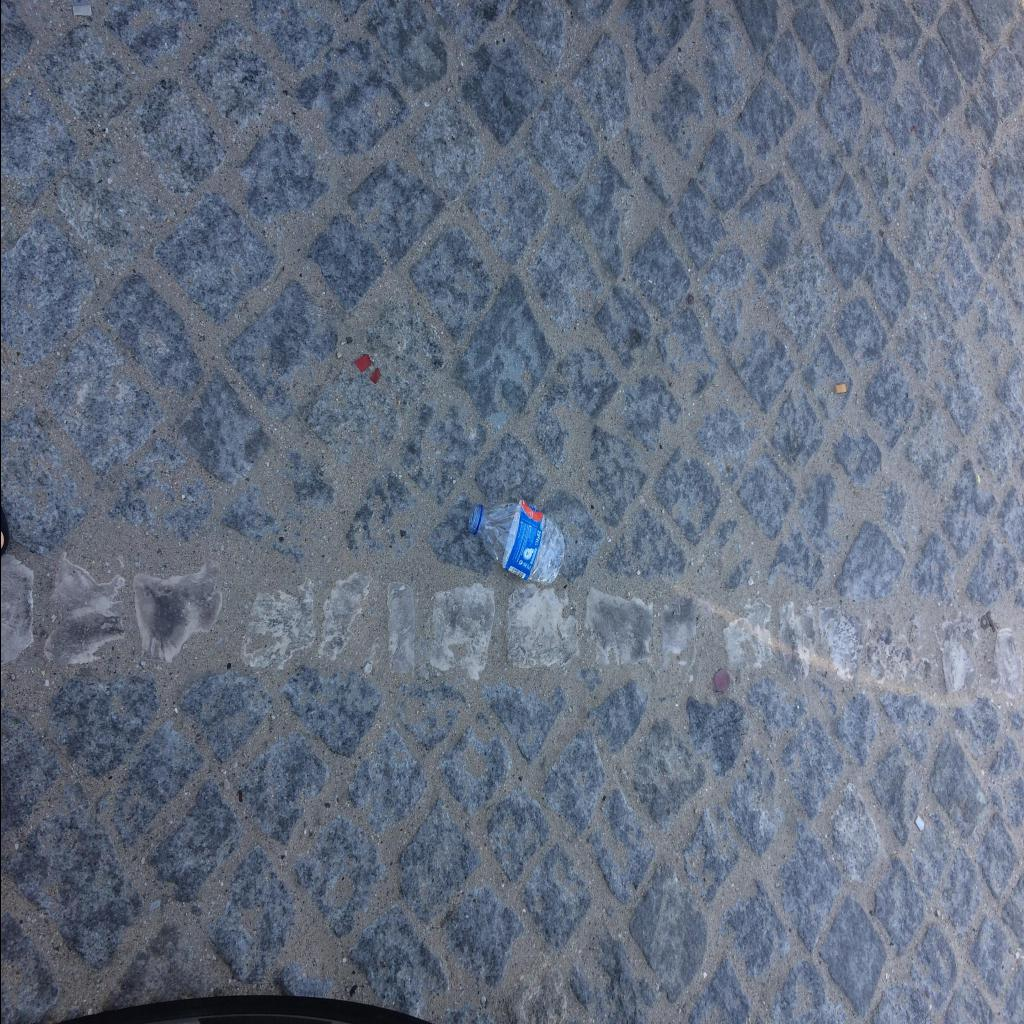Cigarette: (72, 6, 92, 16), (915, 815, 924, 833), (834, 382, 846, 394)
Clear plastic bottle: (467, 500, 563, 588)
Other plastic wrapper: (501, 498, 542, 580)
